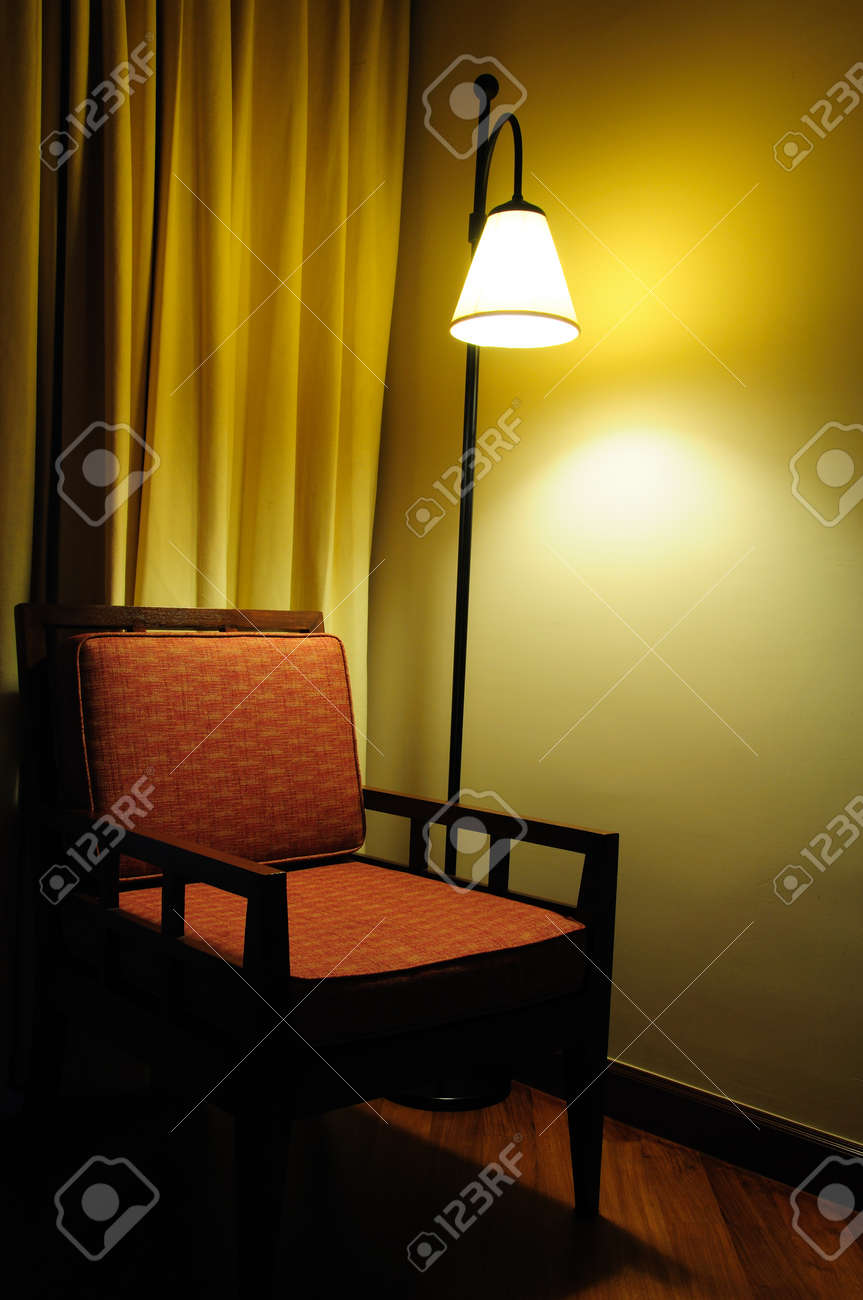bulb: (445, 187, 621, 377)
